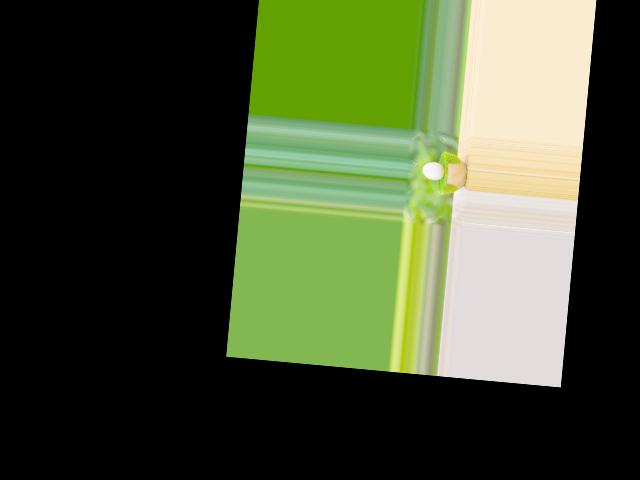egg: (422, 161, 445, 181)
